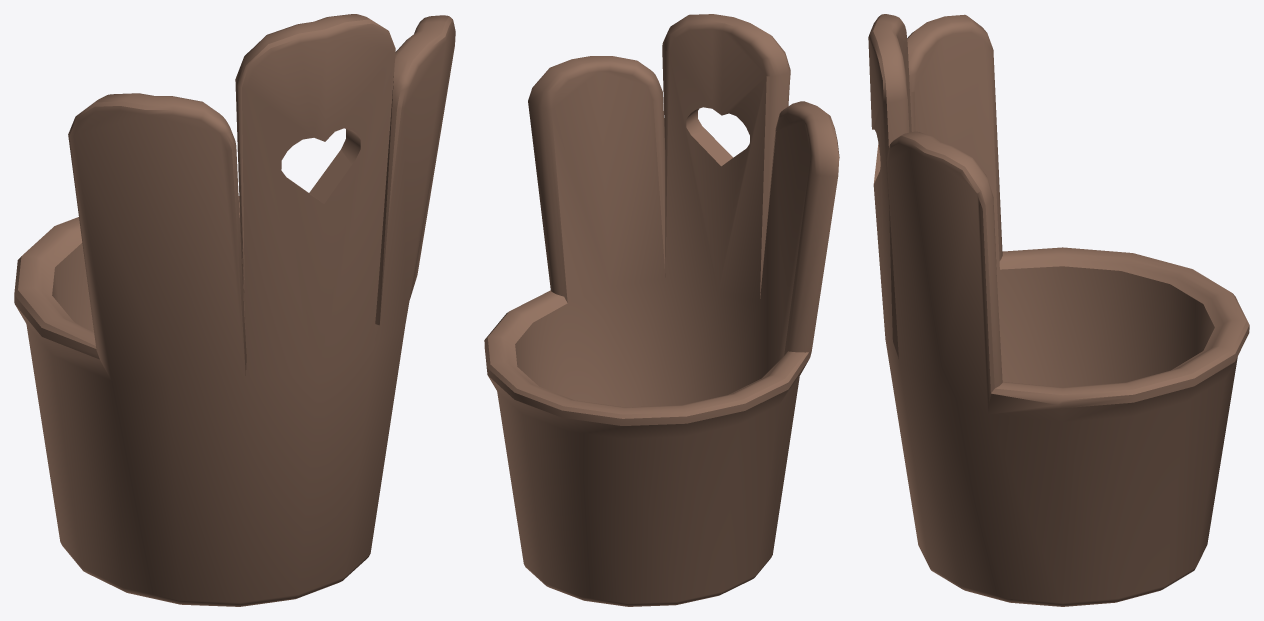
Rendered from Toilet_1.fbx.
3 renders of one model, left to right at view 1: azimuth 30°, elevation 25°; view 2: azimuth 150°, elevation 25°; view 3: azimuth 270°, elevation 25°, orthographic. The views are drawn at different scales.
Visible parts, largest first — view 1: Cylinder; view 2: Cylinder; view 3: Cylinder.
Boxes of the visible parts, x1,y1,x2,y2 form: Cylinder: (14,14,455,606); Cylinder: (484,14,839,606); Cylinder: (868,14,1249,606).
Size of the model in its own units: 64.03 by 94.16 by 62.3.
